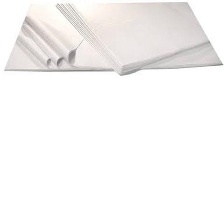tissue: (0, 0, 224, 75), (51, 0, 213, 78)
